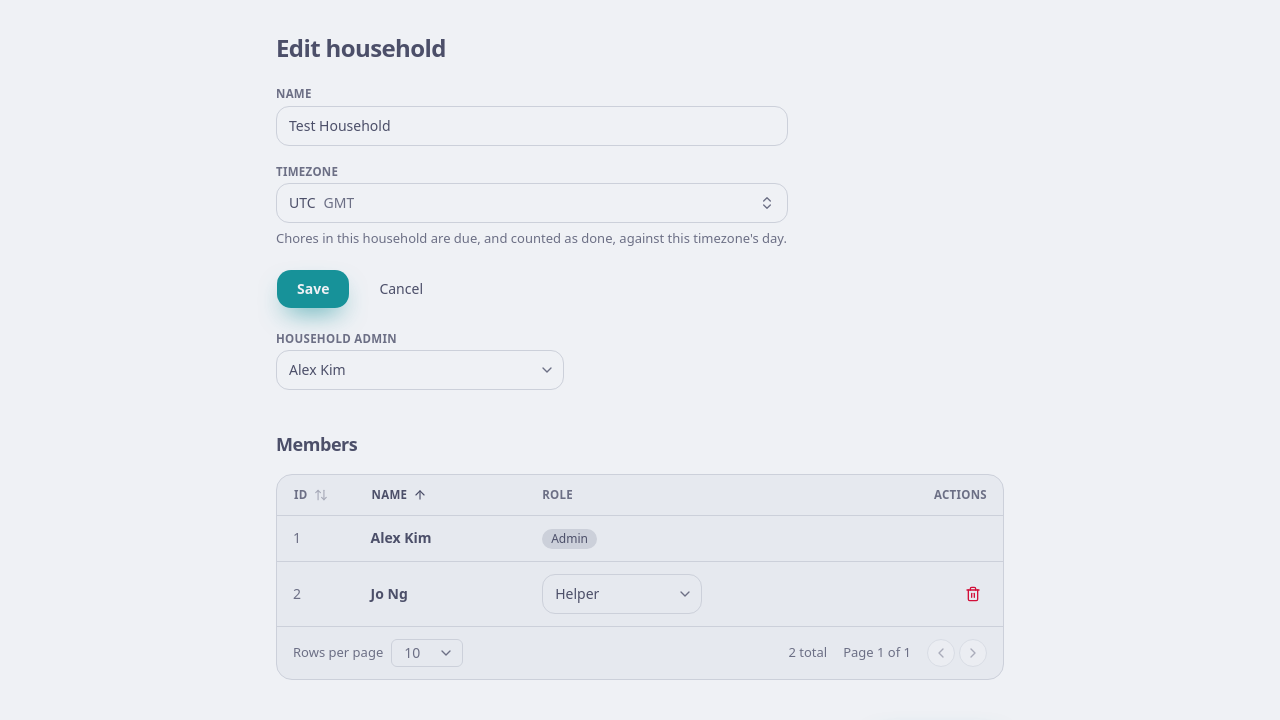
Test: HouseholdEdit › sends nothing when a role change is cancelled, and keeps the stored role showing
This screenshot has width=1280, height=720.
Expected: the text "Jo Ng" is shown, [371,584,408,602]
Click the dropdown named "Role for Jo Ng". click: click(622, 594)
box: [542,574,702,614]
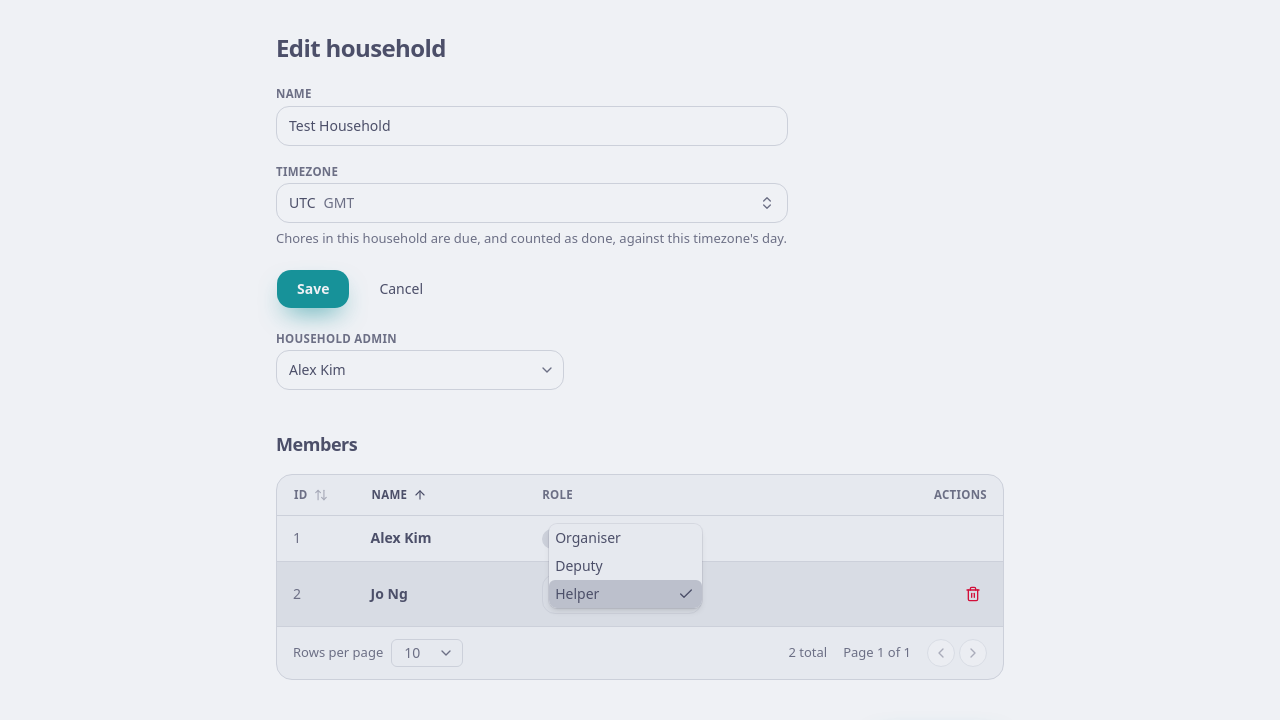
Click the option "Organiser". click: click(588, 537)
box: [555,528,621,546]
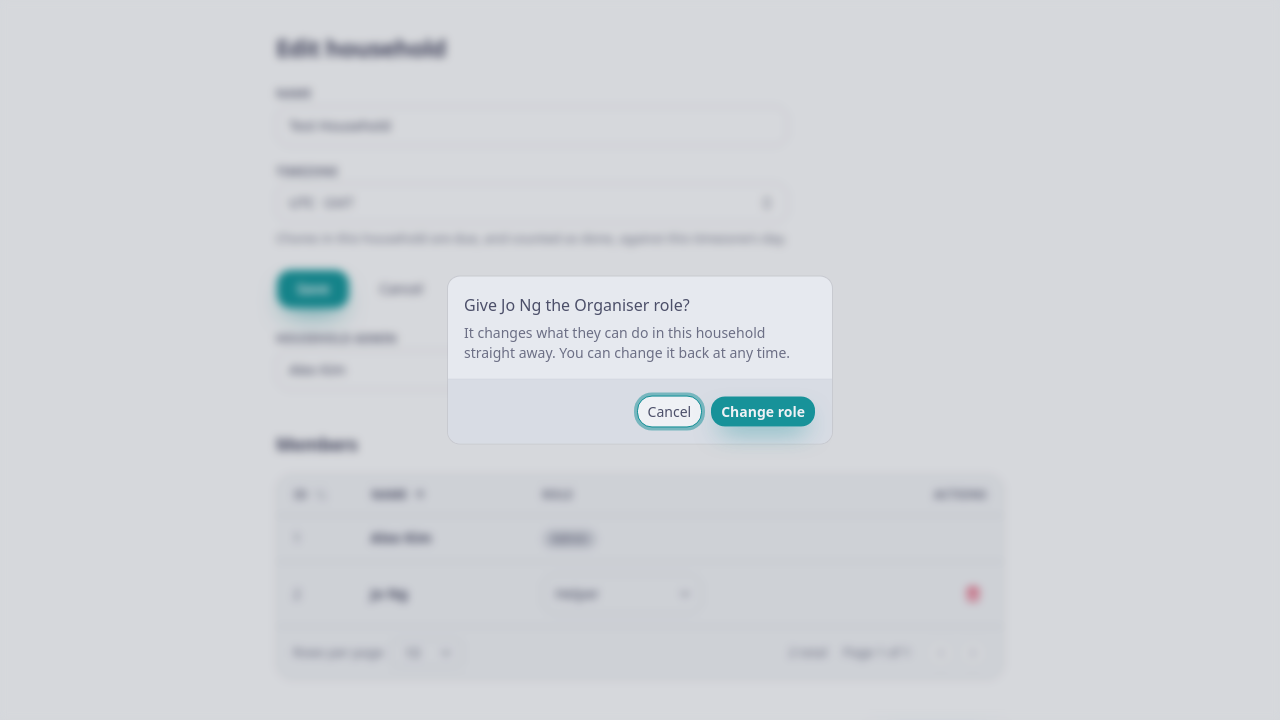
Click the button "Cancel". click: click(669, 412)
box: [637,396,702,428]
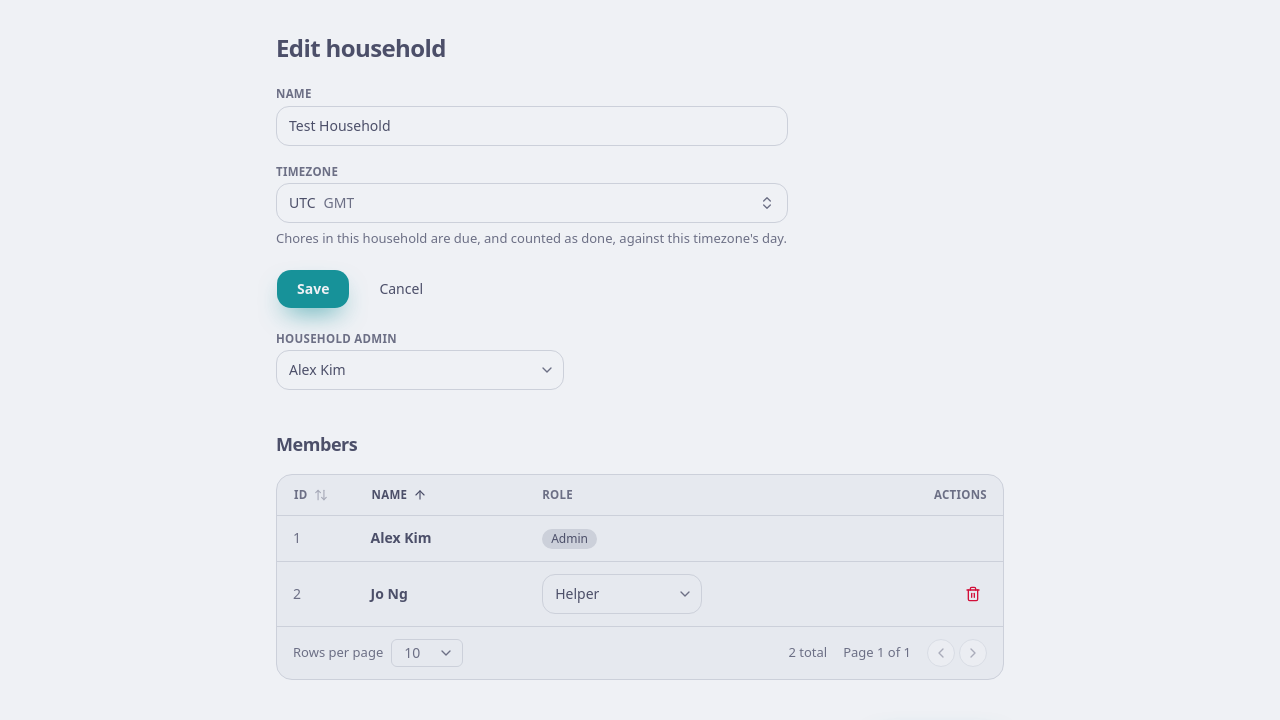
Expected: the dropdown named "Role for Jo Ng" reads "Helper", [542,574,702,614]
Now the dialog is gone
